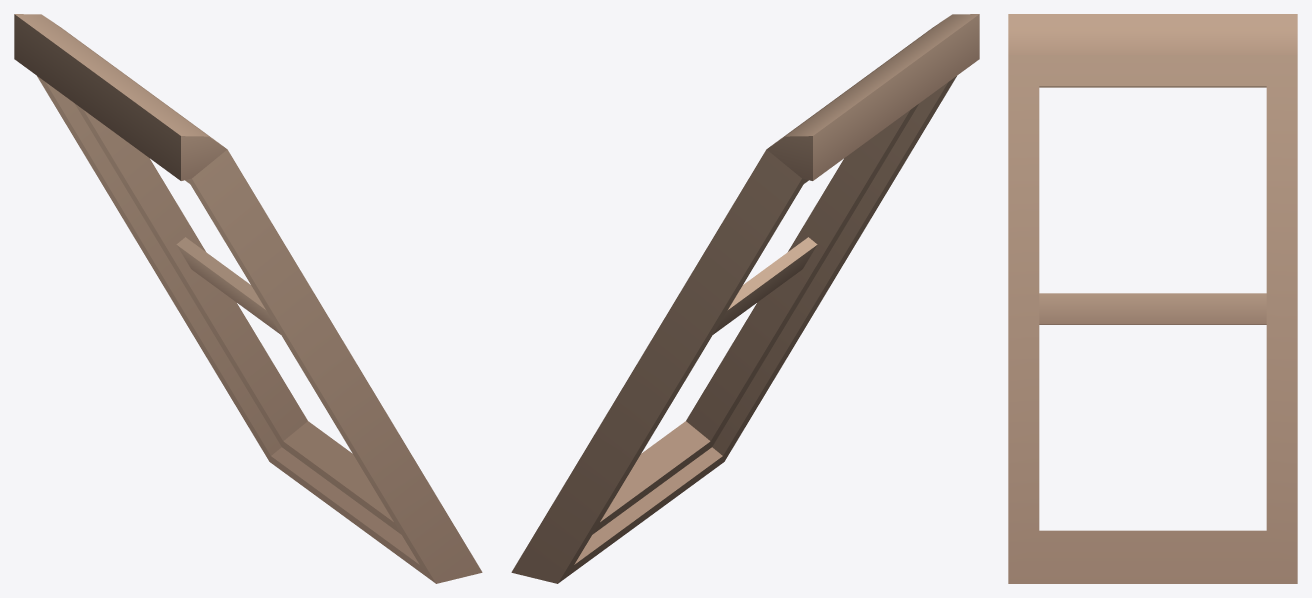
File: roof-steep-window-single.glb
3 views of the same model, side by side, from view 1: azimuth 30°, elevation 25°; view 2: azimuth 150°, elevation 25°; view 3: azimuth 270°, elevation 25° (orthographic). The views are drawn at different scales.
Parts seen in each view (by area): view 1: roof-steep-window-single; view 2: roof-steep-window-single; view 3: roof-steep-window-single.
Boxes of the visible parts, x1,y1,x2,y2 form: roof-steep-window-single: (14, 14, 482, 583); roof-steep-window-single: (511, 14, 979, 583); roof-steep-window-single: (1008, 14, 1297, 583).
Size of the model in its own units: 0.9746 by 1.57 by 0.9333.
